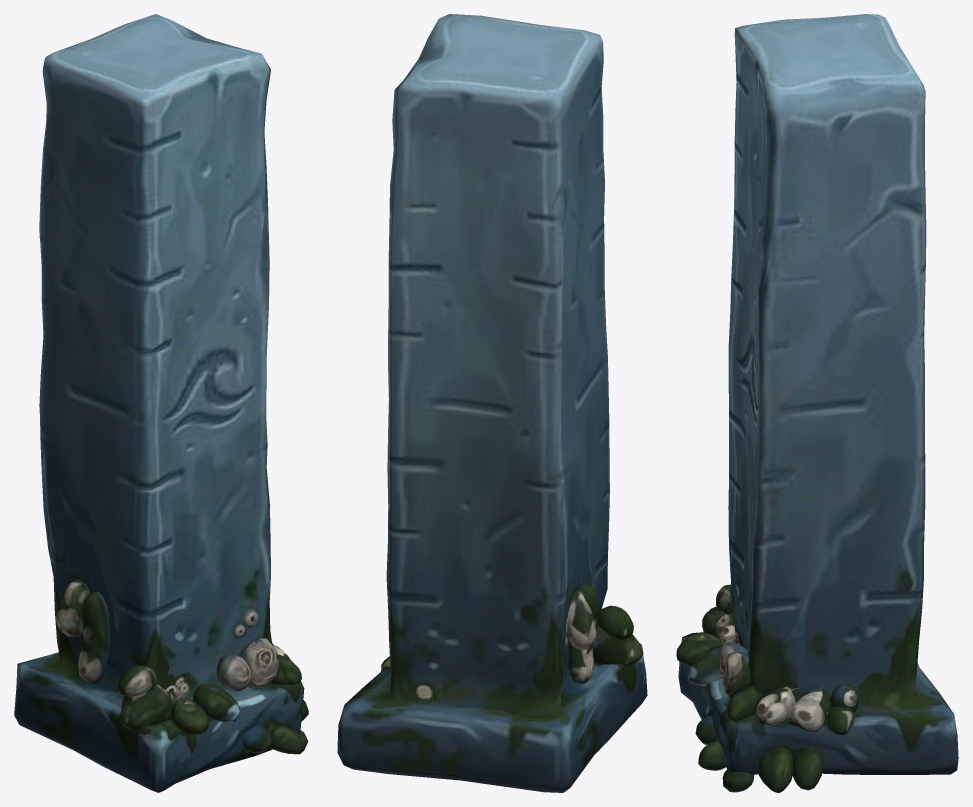
Rendered from el_agua_pilar.glb.
The picture shows the model from 3 angles, left to right: view 1: azimuth 30°, elevation 25°; view 2: azimuth 150°, elevation 25°; view 3: azimuth 270°, elevation 25°; orthographic projection. The views are drawn at different scales.
Parts seen in each view (by area): view 1: Mesh_0.002; view 2: Mesh_0.002; view 3: Mesh_0.002.
Part boxes in pixels (left/top/right/bottom): Mesh_0.002: left=14, top=14, right=308, bottom=792; Mesh_0.002: left=337, top=14, right=647, bottom=792; Mesh_0.002: left=676, top=14, right=958, bottom=792.
Bounding box in the file's own units: 0.1838 × 0.5241 × 0.1923.
Materials: 1 (1 with a texture image).
